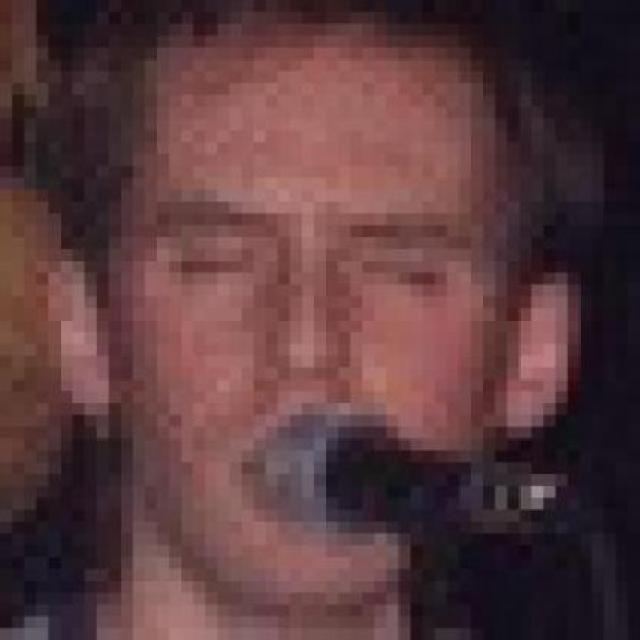drowsy: (360, 249, 443, 296), (178, 239, 250, 283)
